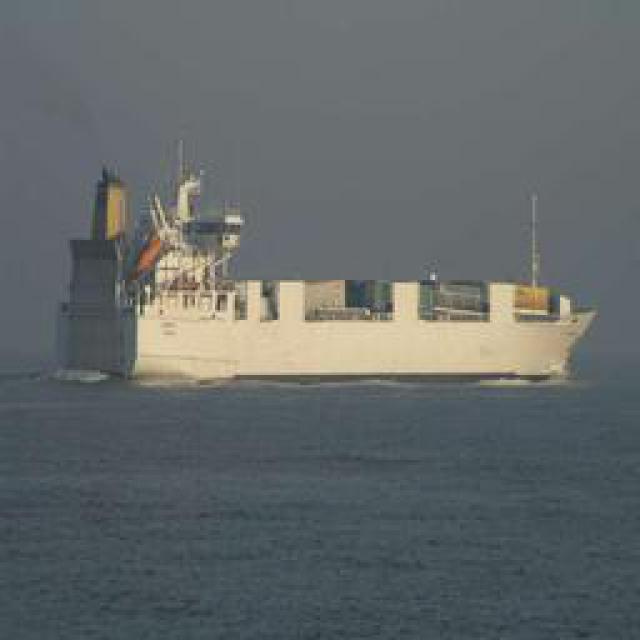Ship: (46, 126, 608, 395)
